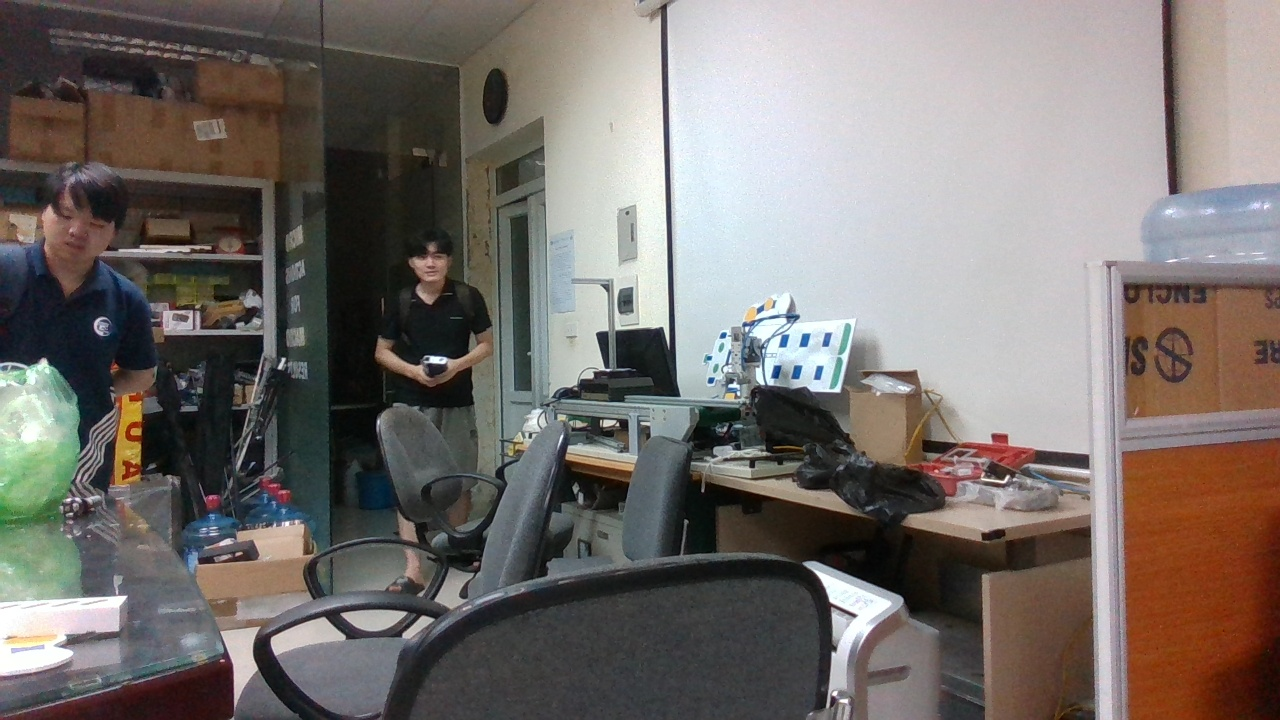person: (8, 195, 162, 447), (373, 241, 496, 513)
